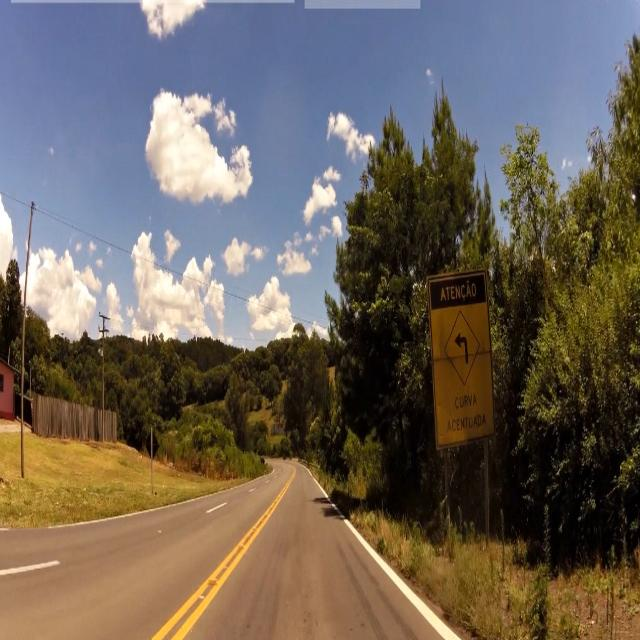A-1a: (448, 311, 481, 385)
